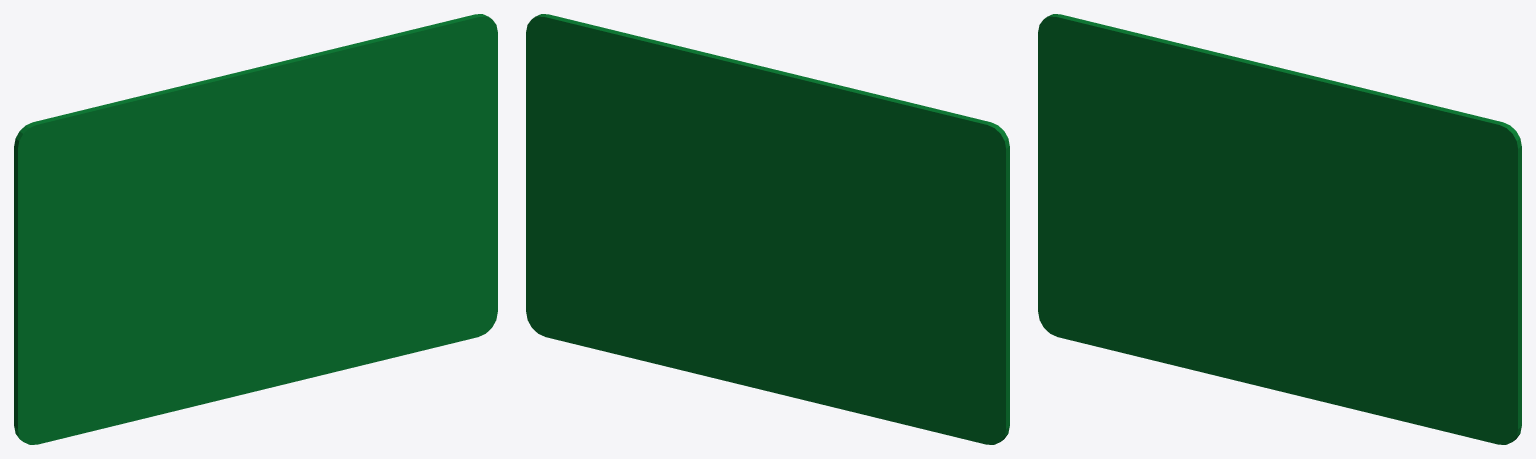
The model's file is tarjeta.fbx.
3 renders of one model, left to right at view 1: azimuth 30°, elevation 25°; view 2: azimuth 150°, elevation 25°; view 3: azimuth 330°, elevation 25°, orthographic.
Parts seen in each view (by area): view 1: Plane; view 2: Plane; view 3: Plane.
Boxes of the visible parts, <box> form: Plane: <box>14,14,497,444</box>; Plane: <box>526,14,1009,444</box>; Plane: <box>1038,14,1521,444</box>.
Bounding box in the file's own units: 291 × 185 × 3.89.
